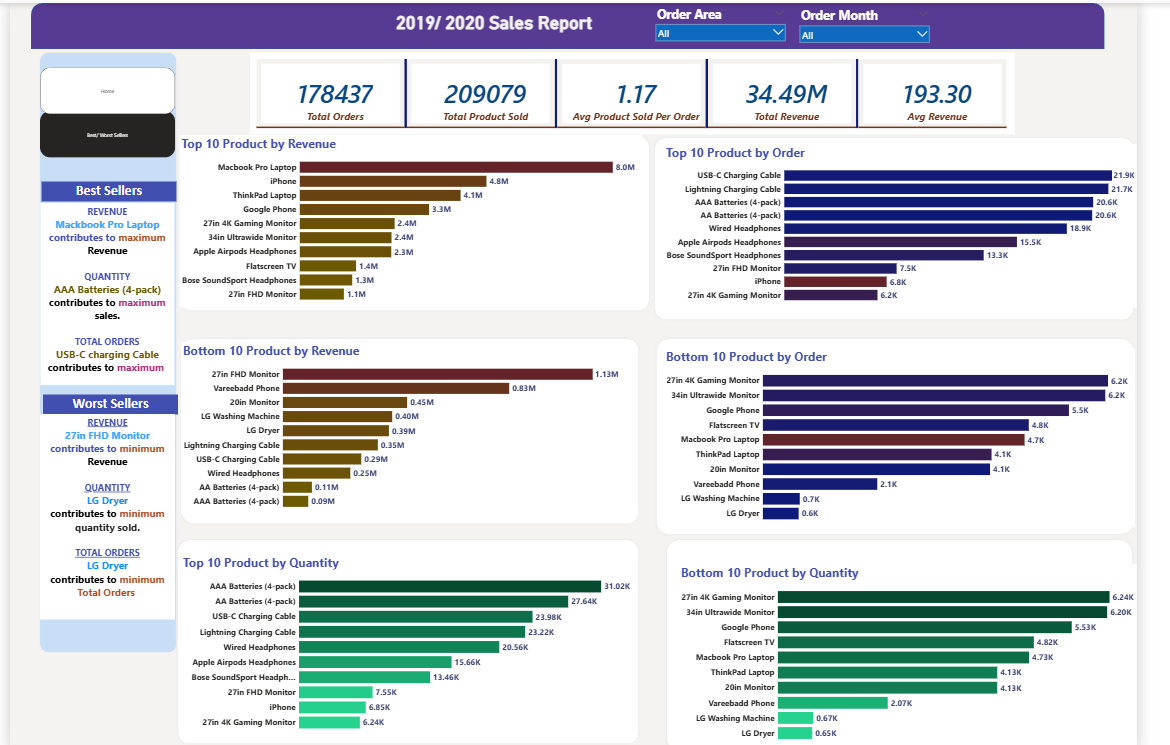

The dashboard page shown, as its layout file describes it:
{"tool":"powerbi","page":{"name":"Best/ Worst Sellers","canvas":[3000,2000],"ordinal":1},"visuals":[{"type":"cardVisual","fields":{"Data":["Sales_Data.Total Orders","Sales_Data.Total Product Sold","Sales_Data.Avg Product Sold Per Order","Sales_Data.Total Revenue","Sales_Data.Avg Revenue"]},"box":[640.9,131.8,2036.4,218.2],"z":0},{"type":"shape","box":[54.5,0,2859.1,122.7],"z":1000},{"type":"textbox","title":"2019/ 2020 Sales Report","box":[1023.5,23.5,555.9,100],"z":2000},{"type":"shape","box":[447.4,347.5,1262.3,479.4],"z":3000},{"type":"shape","box":[71.9,123.8,379.5,1613.9],"z":4000},{"type":"textbox","title":"Best Sellers","box":[82.4,476.5,358.8,52.9],"z":5000},{"type":"textbox","box":[79.9,531.3,359.5,487.4],"z":6000},{"type":"textbox","title":"Worst Sellers","box":[87.9,1042.6,359.5,51.9],"z":7000},{"type":"textbox","box":[79.9,1094.6,359.5,547.3],"z":8000},{"type":"slicer","fields":{"Values":["Sales_Data.City"]},"box":[1710.8,0,365.5,122.8],"z":9000},{"type":"slicer","fields":{"Values":["Sales_Data.Month Name"]},"box":[2091.3,3,365.5,122.8],"z":10000},{"type":"shape","box":[1709.8,351.5,1290.3,499.3],"z":11000},{"type":"shape","box":[451.4,886.8,1230.4,507.3],"z":12000},{"type":"shape","box":[1713.8,886.8,1286.3,535.3],"z":13000},{"type":"clusteredBarChart","title":"Top 10 Product by Revenue","fields":{"Category":["Sales_Data.Product"],"Y":["Sales_Data.Total Revenue"]},"box":[452,350.5,1231.6,458.6],"z":14000},{"type":"clusteredBarChart","title":"Bottom 10 Product by Revenue","fields":{"Category":["Sales_Data.Product"],"Y":["Sales_Data.Total Revenue"]},"box":[455.4,902.8,1170.5,459.4],"z":15000},{"type":"clusteredBarChart","title":"Top 10 Product by Order","fields":{"Category":["Sales_Data.Product"],"Y":["CountNonNull(Sales_Data.Order ID)"]},"box":[1741.7,375.5,1258.3,435.4],"z":16000},{"type":"clusteredBarChart","title":"Bottom 10 Product by Order","fields":{"Category":["Sales_Data.Product"],"Y":["CountNonNull(Sales_Data.Order ID)"]},"box":[1740.9,918.2,1254.5,477.3],"z":17000},{"type":"shape","box":[439.4,1422.1,1242.4,559.3],"z":18000},{"type":"shape","box":[1741.7,1422.1,1254.4,579.2],"z":19000},{"type":"clusteredBarChart","title":"Top 10 Product by Quantity","fields":{"Category":["Sales_Data.Product"],"Y":["Sales_Data.Total Product Sold"]},"box":[455.4,1466.1,1202.4,487.4],"z":20000},{"type":"clusteredBarChart","title":"Bottom 10 Product by Quantity","fields":{"Category":["Sales_Data.Product"],"Y":["Sales_Data.Total Product Sold"]},"box":[1781.7,1494,1218.4,487.4],"z":21000},{"type":"pageNavigator","box":[81.9,288.3,360.3,124.5],"z":22000},{"type":"pageNavigator","box":[81.9,170.3,360.3,124.5],"z":23000}]}

Visuals, with their boxes on the page's 3000x2000 design canvas (x1, y1, x2, y2). These are canvas units, not pixel positions in the 1170x745 screenshot, which may show the page scaled, cropped or inside an application window:
cardVisual - Sales_Data.Total Orders x Sales_Data.Total Product Sold: (641,132,2677,350)
shape: (54,0,2914,123)
"2019/ 2020 Sales Report" textbox: (1024,24,1579,124)
shape: (447,348,1710,827)
shape: (72,124,451,1738)
"Best Sellers" textbox: (82,476,441,529)
textbox: (80,531,439,1019)
"Worst Sellers" textbox: (88,1043,447,1094)
textbox: (80,1095,439,1642)
slicer - Sales_Data.City: (1711,0,2076,123)
slicer - Sales_Data.Month Name: (2091,3,2457,126)
shape: (1710,352,3000,851)
shape: (451,887,1682,1394)
shape: (1714,887,3000,1422)
"Top 10 Product by Revenue" clusteredBarChart: (452,350,1684,809)
"Bottom 10 Product by Revenue" clusteredBarChart: (455,903,1626,1362)
"Top 10 Product by Order" clusteredBarChart: (1742,376,3000,811)
"Bottom 10 Product by Order" clusteredBarChart: (1741,918,2995,1396)
shape: (439,1422,1682,1981)
shape: (1742,1422,2996,2001)
"Top 10 Product by Quantity" clusteredBarChart: (455,1466,1658,1954)
"Bottom 10 Product by Quantity" clusteredBarChart: (1782,1494,3000,1981)
pageNavigator: (82,288,442,413)
pageNavigator: (82,170,442,295)
